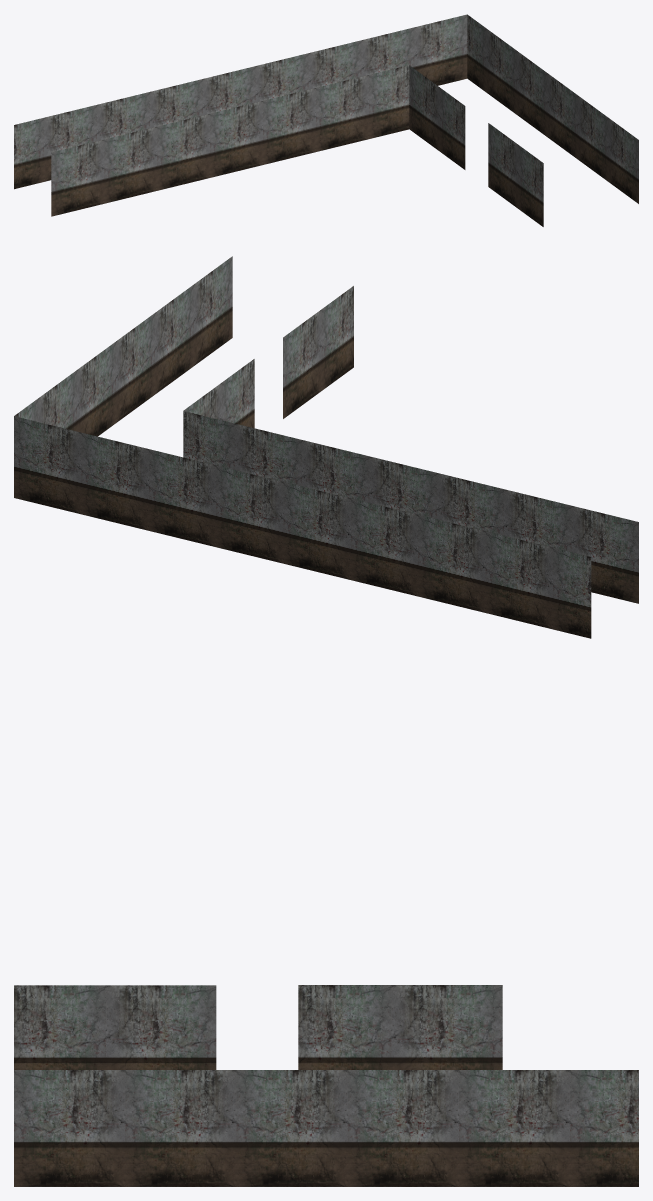
File: Interior_Wall_New.fbx
3 views of the same model, one above another, from view 1: azimuth 30°, elevation 25°; view 2: azimuth 150°, elevation 25°; view 3: azimuth 270°, elevation 25° (orthographic). The views are drawn at different scales.
Visible parts, largest first — view 1: Interior_Wall_New2; view 2: Interior_Wall_New2; view 3: Interior_Wall_New2.
Boxes of the visible parts, x1,y1,x2,y2 form: Interior_Wall_New2: [14, 14, 638, 226]; Interior_Wall_New2: [14, 256, 638, 638]; Interior_Wall_New2: [14, 985, 638, 1186].
Size of the model in its own units: 23.96 by 3.24 by 15.71.
